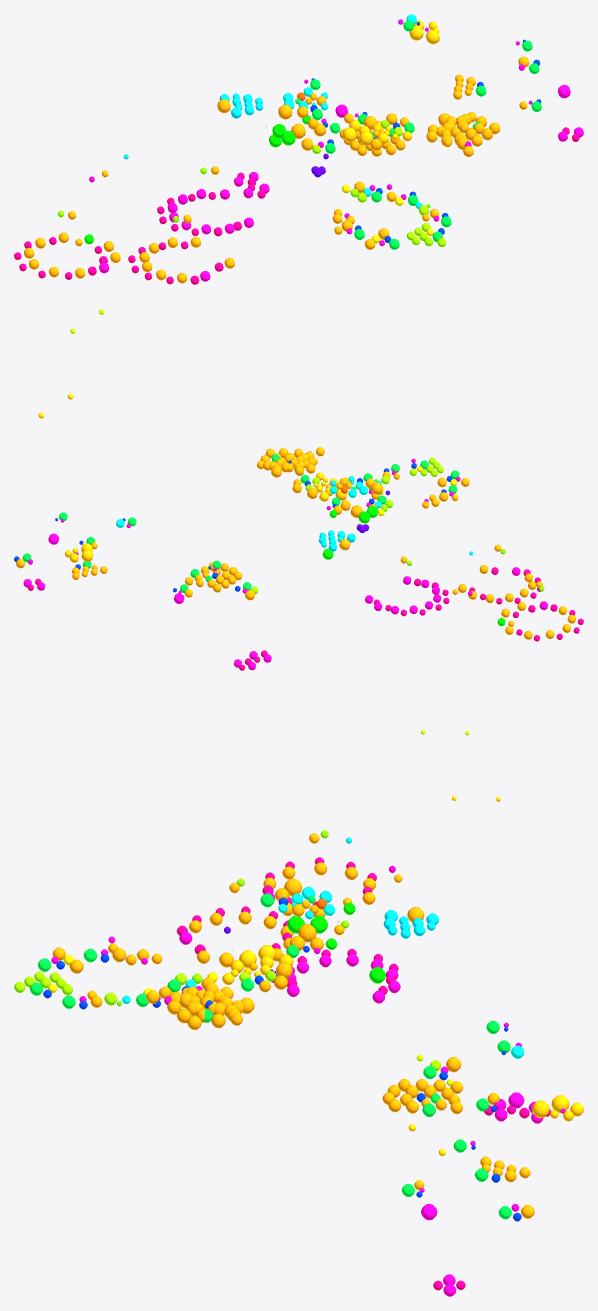
The model's file is task-3a5ca4b71-layout.gltf.
3 renders of one model, top to bottom at view 1: azimuth 30°, elevation 25°; view 2: azimuth 150°, elevation 25°; view 3: azimuth 270°, elevation 25°, orthographic. The views are drawn at different scales.
Visible parts, largest first — view 1: diff_changed_files, normal_filters_files, normal_in_files, normal_vcxproj_files, normal_icc_files, normal_c_files, diff_added_files, normal_m4_files; view 2: diff_changed_files, normal_filters_files, normal_in_files, normal_vcxproj_files, normal_icc_files, normal_c_files; view 3: diff_changed_files, normal_in_files, normal_icc_files, normal_filters_files, normal_vcxproj_files, normal_c_files, normal_am_files, diff_added_files, normal_m4_files, normal_no_ext_files.
Boxes of the visible parts, x1=… form: diff_changed_files: x1=24, y1=56, x2=529, y2=283; normal_filters_files: x1=14, y1=127, x2=579, y2=284; normal_in_files: x1=295, y1=20, x2=541, y2=249; normal_vcxproj_files: x1=99, y1=127, x2=583, y2=281; normal_icc_files: x1=342, y1=20, x2=439, y2=145; normal_c_files: x1=312, y1=127, x2=446, y2=247; diff_added_files: x1=84, y1=115, x2=310, y2=244; normal_m4_files: x1=219, y1=93, x2=263, y2=118; diff_changed_files: x1=16, y1=447, x2=575, y2=639; normal_filters_files: x1=28, y1=567, x2=583, y2=670; normal_in_files: x1=22, y1=454, x2=459, y2=593; normal_vcxproj_files: x1=23, y1=567, x2=547, y2=670; normal_icc_files: x1=64, y1=472, x2=347, y2=562; normal_c_files: x1=251, y1=457, x2=443, y2=593; diff_changed_files: x1=52, y1=833, x2=534, y2=1218; normal_in_files: x1=30, y1=893, x2=511, y2=1219; normal_icc_files: x1=222, y1=945, x2=583, y2=1121; normal_filters_files: x1=176, y1=857, x2=551, y2=1290; normal_vcxproj_files: x1=179, y1=891, x2=543, y2=1296; normal_c_files: x1=14, y1=971, x2=441, y2=1071; normal_am_files: x1=43, y1=897, x2=521, y2=1221; diff_added_files: x1=287, y1=902, x2=385, y2=983; normal_m4_files: x1=383, y1=909, x2=438, y2=938; normal_no_ext_files: x1=122, y1=886, x2=524, y2=1058.
Size of the model in its own units: 184 by 85.72 by 120.
